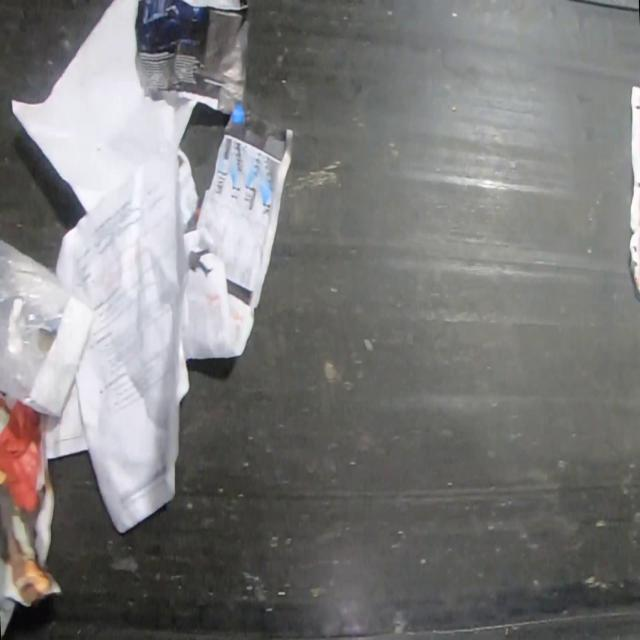soft_plastic: (0, 240, 96, 422)
